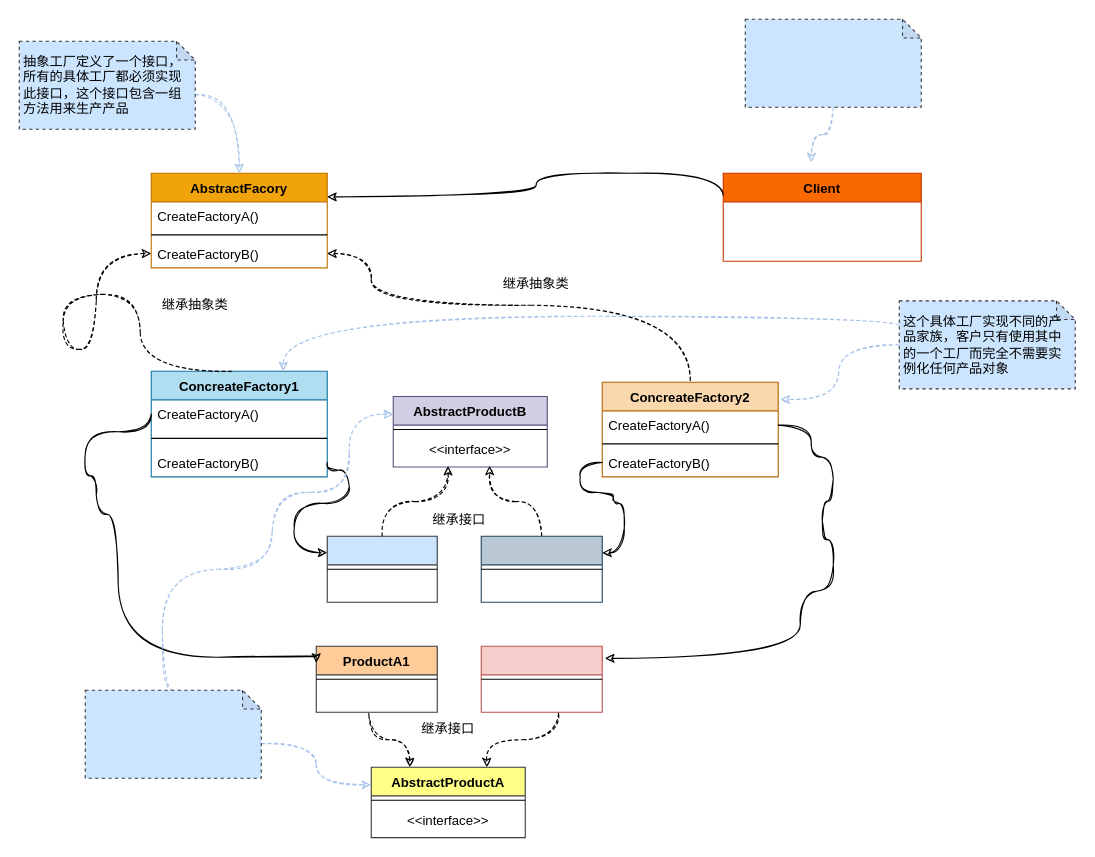
The diagram is 1095 pixels wide and 857 high, and some of its shapes have lost their labels. Here are the shapes that lost their labels. From the top down, the centre of each, then its label:
At (x=832, y=62): "客户的代码中只需要涉及抽象工厂，运行时将自动使用实际工厂".
At (x=381, y=568): "ProductB1".
At (x=541, y=568): "ProductB2".
At (x=541, y=678): "ProductA2".
At (x=172, y=733): "这就是产品家族，每个具体工厂都能生成一整组的产品".
